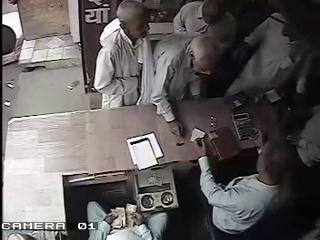Normal: (150, 0, 240, 136), (194, 134, 295, 240)
shoplifting: (93, 0, 154, 110)
